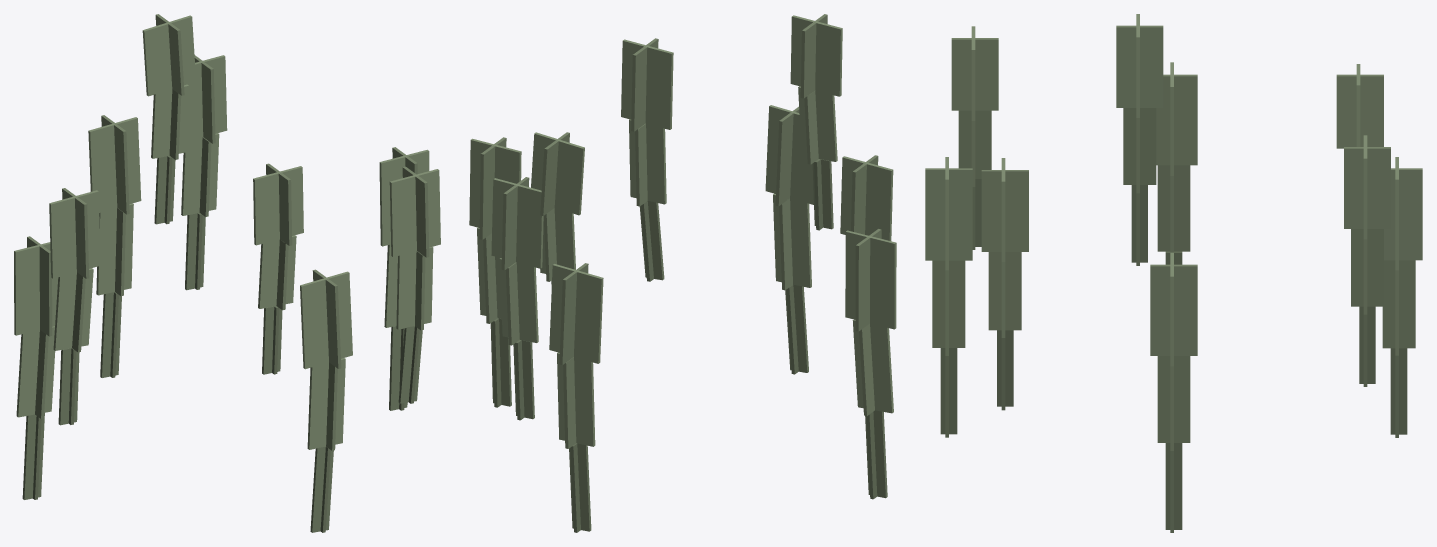
File: Facet_C.glb
3 views of the same model, side by side, from view 1: azimuth 30°, elevation 25°; view 2: azimuth 150°, elevation 25°; view 3: azimuth 270°, elevation 25° (orthographic). The views are drawn at different scales.
Visible parts, largest first — view 1: Knees; view 2: Knees; view 3: Knees.
Boxes of the visible parts, bbox=[...] form: Knees: bbox=[14, 14, 440, 532]; Knees: bbox=[469, 14, 896, 532]; Knees: bbox=[925, 14, 1422, 532].
Size of the model in its own units: 16.45 by 13.58 by 16.04.
